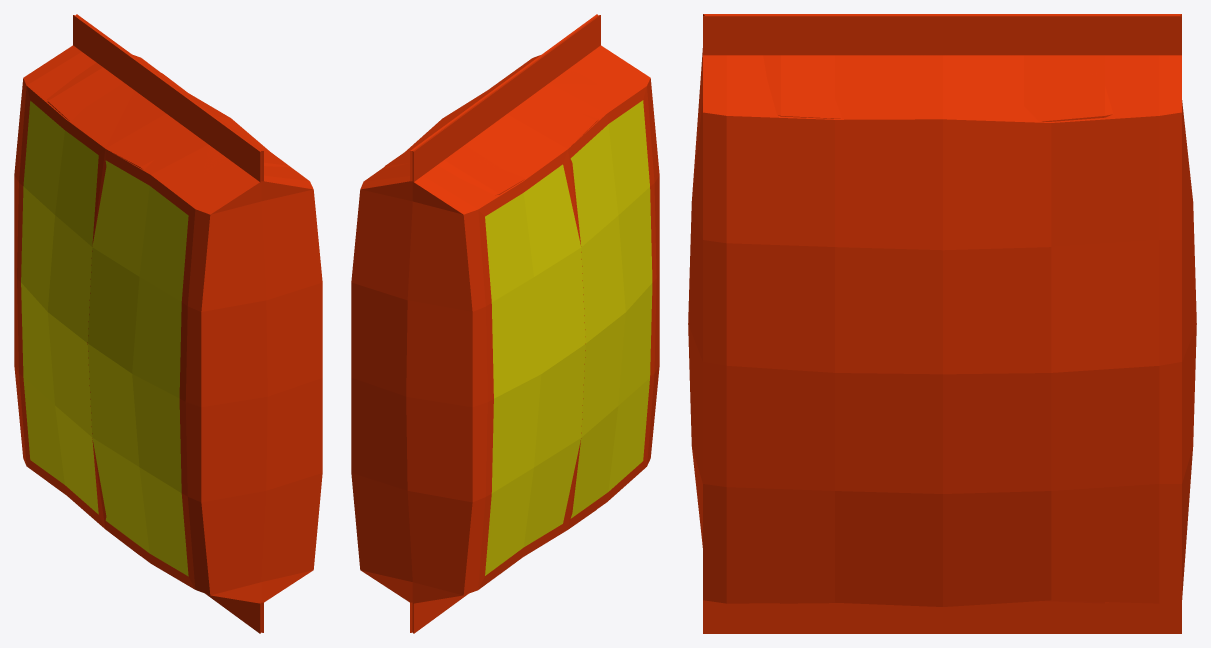
Rendered from Patatas_Low_Poly_2.fbx.
The picture shows the model from 3 angles, left to right: view 1: azimuth 30°, elevation 25°; view 2: azimuth 150°, elevation 25°; view 3: azimuth 270°, elevation 25°; orthographic projection. The views are drawn at different scales.
Parts seen in each view (by area): view 1: Cube.001, Cube; view 2: Cube.001, Cube; view 3: Cube.001, Cube.
Boxes of the visible parts, x1,y1,x2,y2 form: Cube.001: (14,14,322,633); Cube: (47,33,288,610); Cube.001: (351,14,659,633); Cube: (384,32,599,616); Cube.001: (688,14,1196,633); Cube: (763,14,1121,633).
Bounding box in the file's own units: 13.28 × 37.99 × 28.36.
